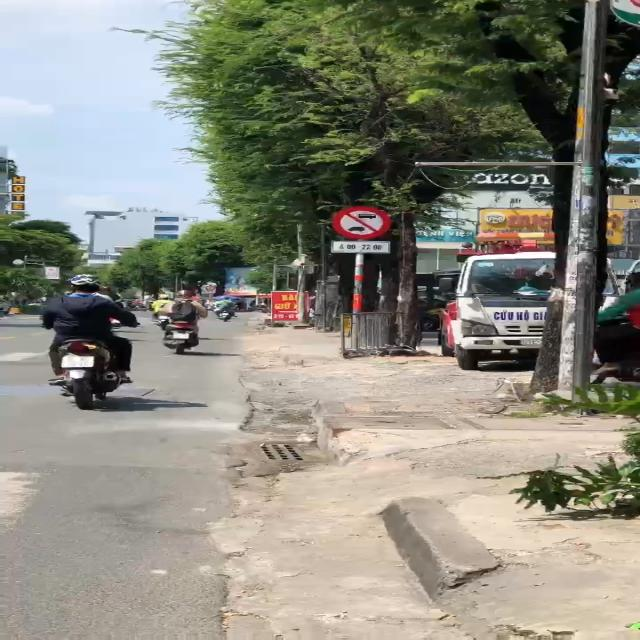Bien bao cam xe oto khach va xe oto tai: (331, 204, 390, 240)
